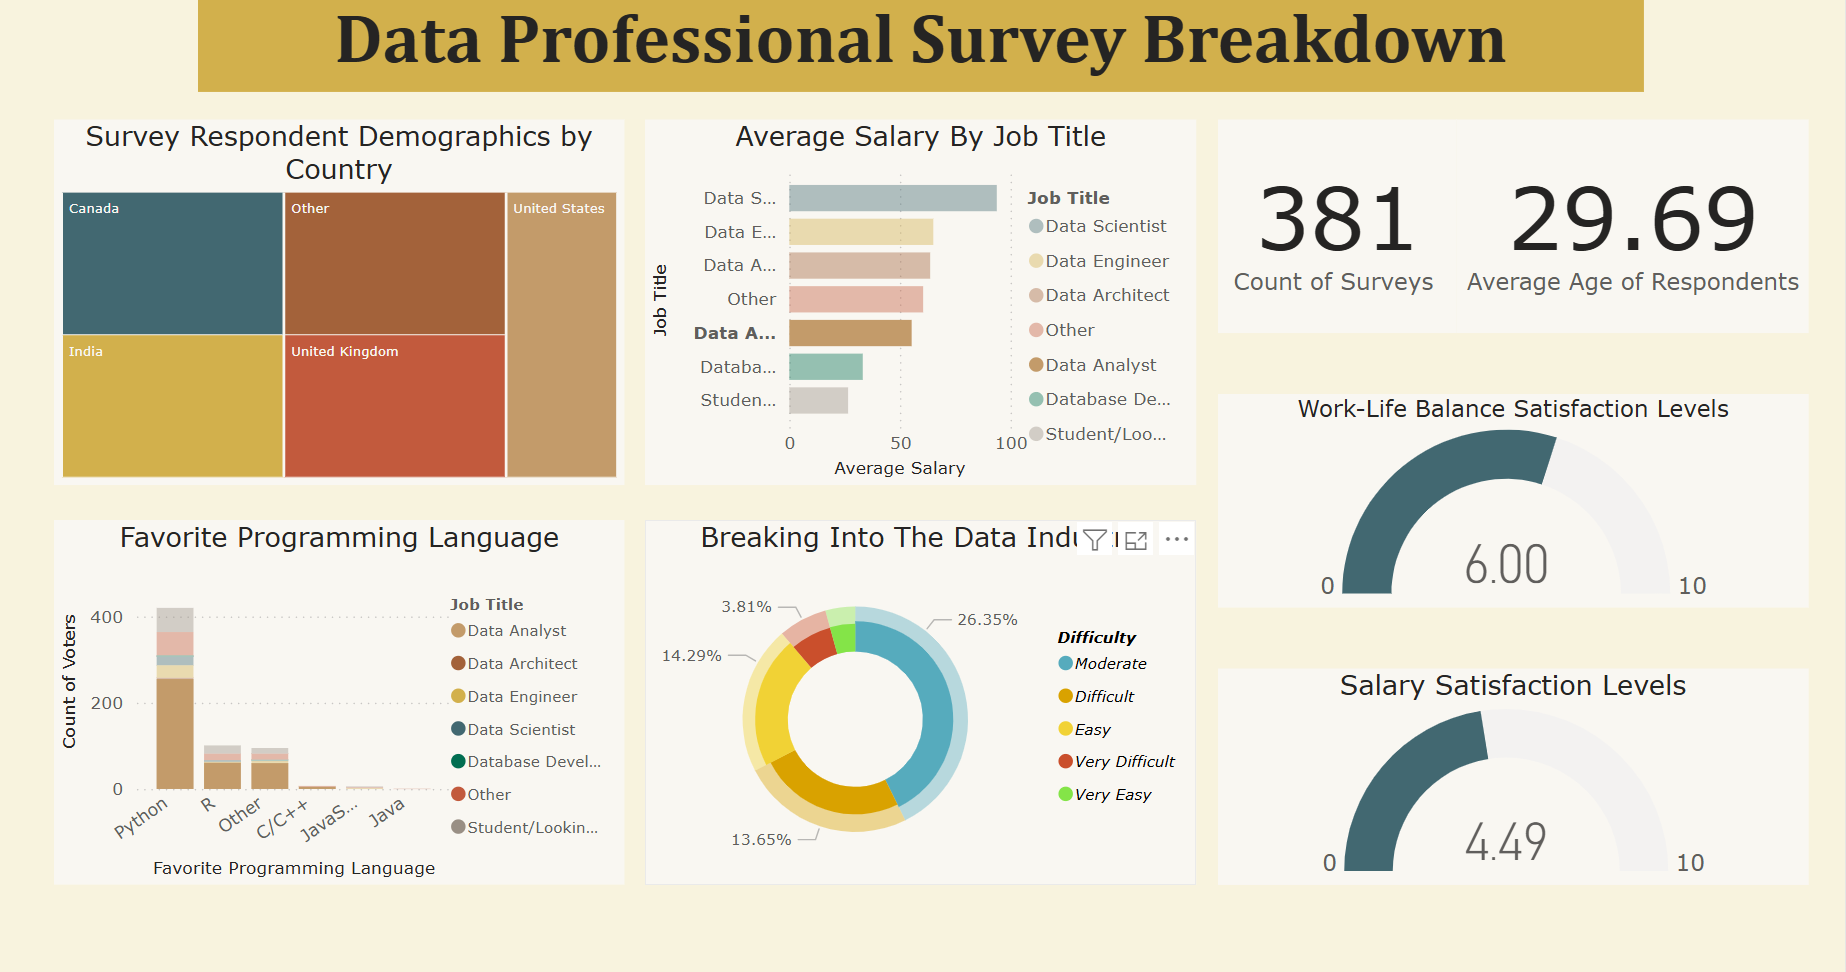

What the dashboard file says about the page in this screenshot:
{"tool":"powerbi","page":{"name":"Page 1","canvas":[1280,720],"ordinal":0},"visuals":[{"type":"textbox","box":[139,29,1002,71],"z":0},{"type":"card","fields":{"Values":["Count(Data Professional Survey.Unique ID)"]},"box":[846,120,165,148],"z":1000},{"type":"card","fields":{"Values":["Avg(Data Professional Survey.Q10 - Current Age)"]},"box":[1011,120,244,148],"z":2000},{"type":"barChart","title":"Average Salary By Job Title","fields":{"Category":["Data Professional Survey.Q1 - Which Title Best Fits your Current Role?.1"],"Y":["Avg(Data Professional Survey.Average Salary)"],"Series":["Data Professional Survey.Q1 - Which Title Best Fits your Current Role?.1"]},"box":[449,120,382,253],"z":3000},{"type":"columnChart","title":"Favorite Programming Language ","fields":{"Category":["Data Professional Survey.Q5 - Favorite Programming Language.1"],"Y":["CountNonNull(Data Professional Survey.Unique ID)"],"Series":["Data Professional Survey.Q1 - Which Title Best Fits your Current Role?.1"]},"box":[40,397.3,395.5,252.7],"z":4000},{"type":"treemap","title":"Survey Respondent Demographics by Country","fields":{"Group":["Data Professional Survey.Q11 - Which Country do you live in?.1"],"Values":["Count(Data Professional Survey.Q11 - Which Country do you live in?.1)"]},"box":[40,120,395,253],"z":5000},{"type":"gauge","title":"Salary Satisfaction Levels","fields":{"Y":["Avg(Data Professional Survey.Q6 - How Happy are you in your Current Position with the following? (Salary))"],"MinValue":["Min(Data Professional Survey.Q6 - How Happy are you in your Current Position with the following? (Salary))"],"MaxValue":["Max(Data Professional Survey.Q6 - How Happy are you in your Current Position with the following? (Salary))"]},"box":[846,500,409,150],"z":6000},{"type":"gauge","title":"Work-Life Balance Satisfaction Levels","fields":{"Y":["Avg(Data Professional Survey.Q6 - How Happy are you in your Current Position with the following? (Work/Life Balance))"],"MaxValue":["Max(Data Professional Survey.Q6 - How Happy are you in your Current Position with the following? (Work/Life Balance))1"],"MinValue":["Min(Data Professional Survey.Q6 - How Happy are you in your Current Position with the following? (Work/Life Balance))"]},"box":[846,310,409,148],"z":7000},{"type":"donutChart","title":"Breaking Into The Data Industry","fields":{"Y":["CountNonNull(Data Professional Survey.Q7 - How difficult was it for you to break into Data? - Copy)"],"Category":["Data Professional Survey.Q7 - How difficult was it for you to break into Data? - Copy"]},"box":[449.1,397.3,381.8,252.7],"z":8000}]}

Visuals, with their boxes on the page's 1280x720 design canvas (x1, y1, x2, y2). These are canvas units, not pixel positions in the 1846x972 screenshot, which may show the page scaled, cropped or inside an application window:
textbox: 139, 29, 1141, 100
card - Count(Data Professional Survey.Unique ID): 846, 120, 1011, 268
card - Avg(Data Professional Survey.Q10 - Current Age): 1011, 120, 1255, 268
"Average Salary By Job Title" barChart: 449, 120, 831, 373
"Favorite Programming Language " columnChart: 40, 397, 436, 650
"Survey Respondent Demographics by Country" treemap: 40, 120, 435, 373
"Salary Satisfaction Levels" gauge: 846, 500, 1255, 650
"Work-Life Balance Satisfaction Levels" gauge: 846, 310, 1255, 458
"Breaking Into The Data Industry" donutChart: 449, 397, 831, 650
